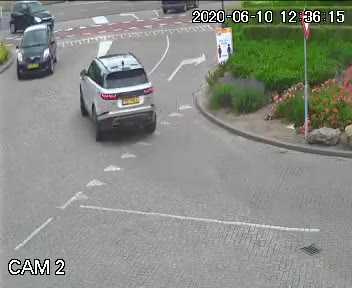car: (73, 47, 157, 152), (10, 25, 54, 84), (7, 0, 58, 32), (159, 0, 199, 16)
